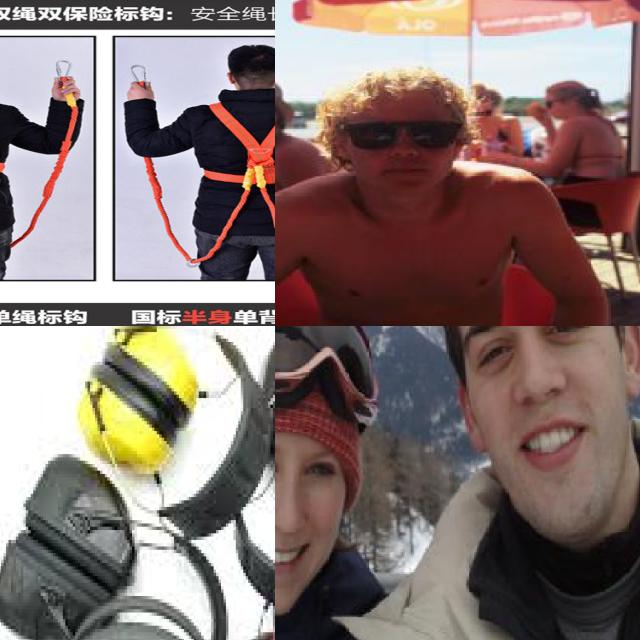Ear-protection: (14, 444, 134, 586), (0, 526, 107, 640), (78, 355, 174, 474), (97, 326, 196, 421), (258, 328, 275, 470)
Harness: (196, 94, 275, 239)
face_nomask: (451, 326, 624, 488), (275, 427, 337, 581), (354, 111, 451, 188)
glasses: (275, 326, 386, 424), (344, 117, 462, 151)
head_nohelmet: (341, 66, 456, 122), (552, 79, 602, 106)
person: (275, 74, 613, 326), (542, 85, 638, 220)
